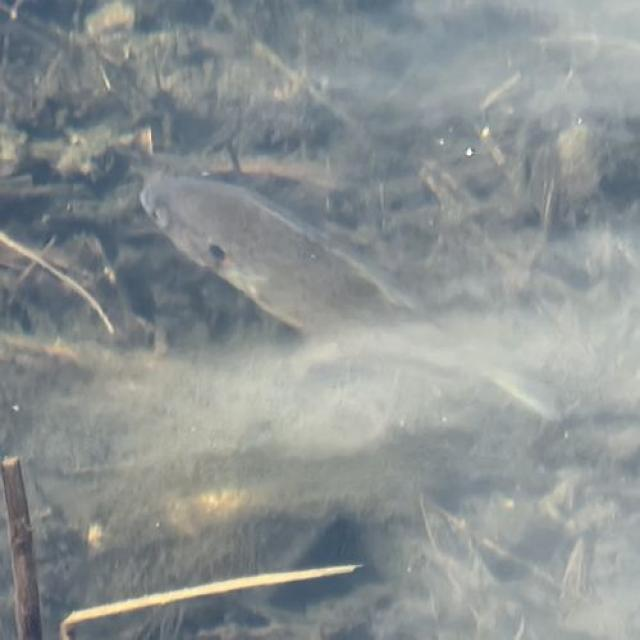Gunes Levregi: (137, 170, 574, 441)
